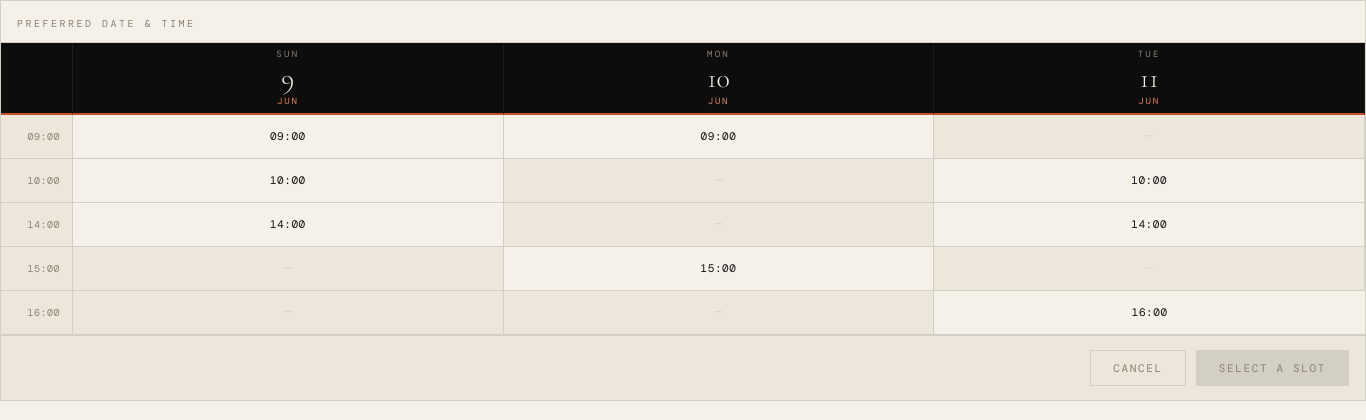
Scenario: TimeSlotPicker — selection › shows selection hint text when a slot is selected
The image size is (1366, 420).
Click the 1st cell with class "tsp__cell--available". click: x=288, y=137
box: [73, 115, 504, 159]
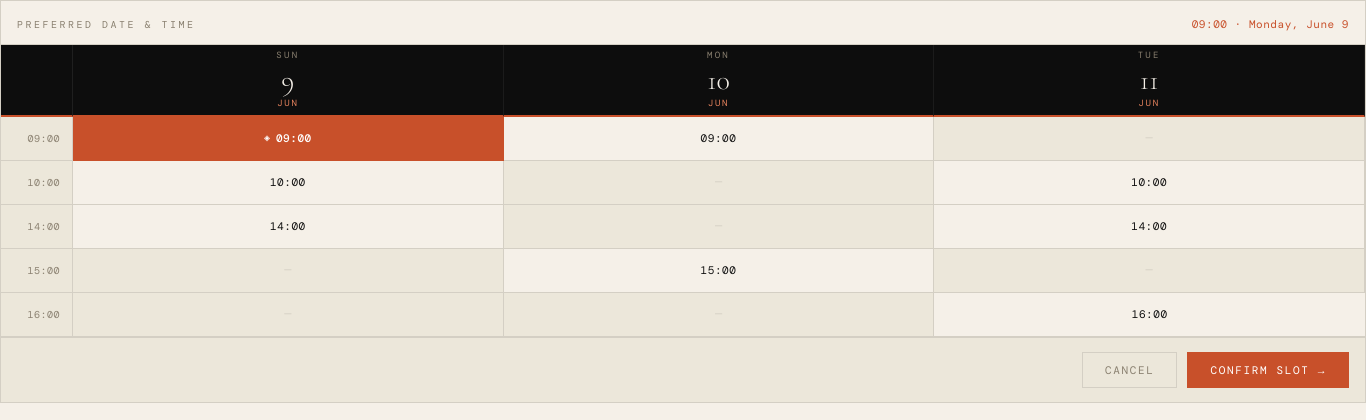
Expected: the text "09:00 · Monday, June 9" is shown, [1192, 15, 1349, 34]
